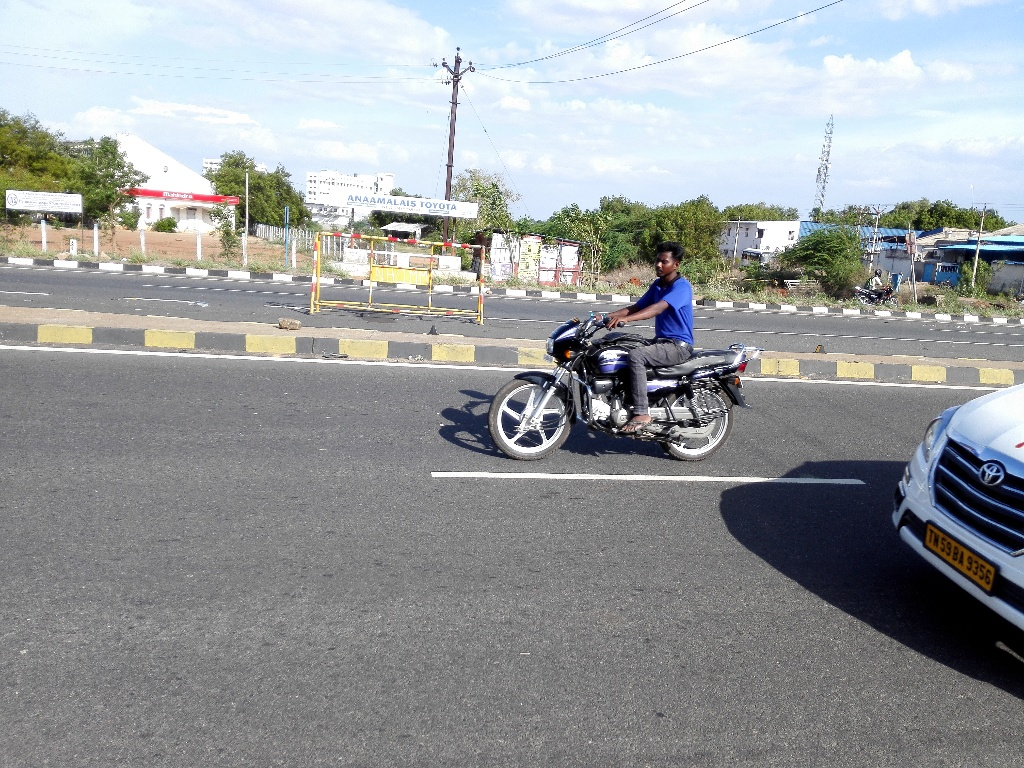biker: (466, 193, 765, 487)
nohelmet: (646, 230, 690, 293)
